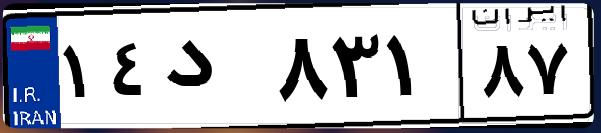1: (385, 28, 445, 110), (57, 26, 110, 100)
3: (330, 28, 385, 110)
4: (110, 28, 158, 98)
7: (525, 38, 570, 115)
8: (270, 28, 330, 110), (475, 38, 525, 113)
د: (158, 20, 270, 120)
